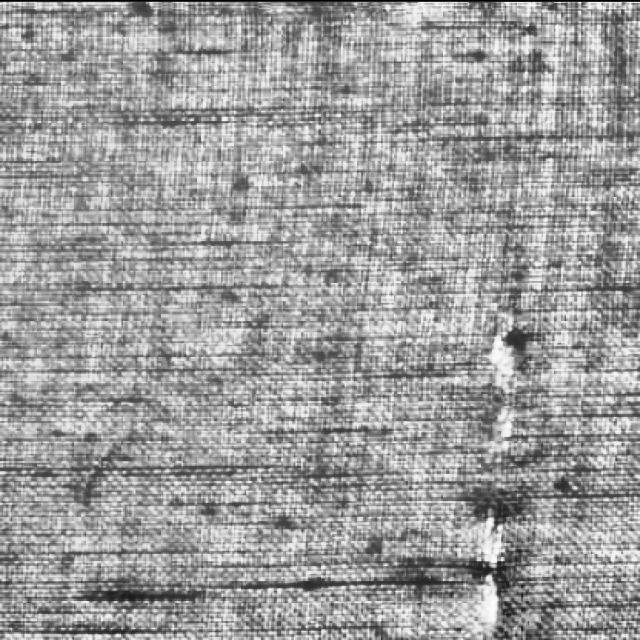thread_error: (452, 300, 542, 640)
